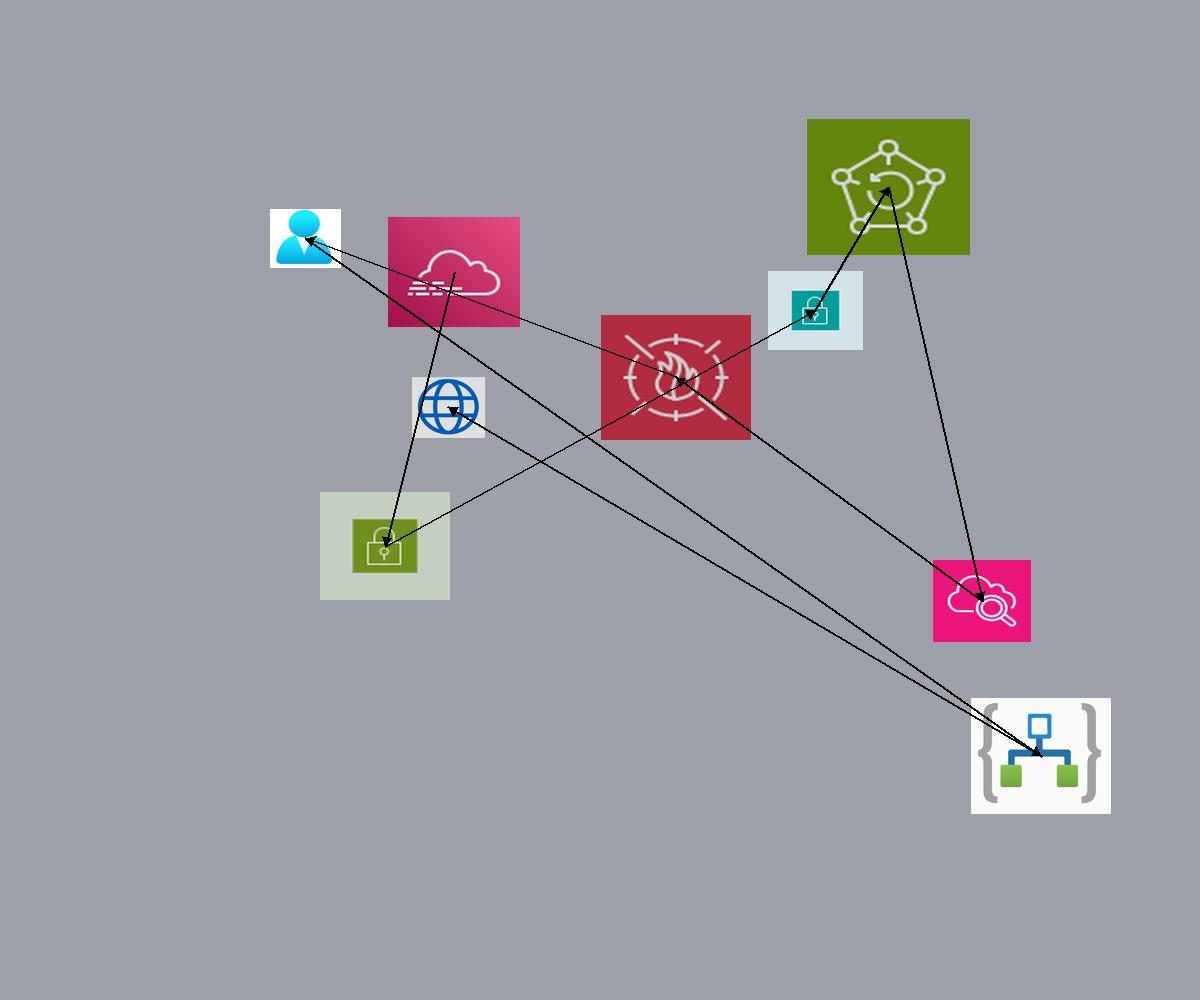AWS-Backup: (807, 119, 970, 255)
AWS-CloudTrail: (388, 217, 520, 327)
AWS-CloudWatch: (933, 560, 1031, 642)
AWS-Private-subnet: (768, 271, 863, 350)
AWS-Public-subnet: (320, 492, 450, 600)
AWS-WAF: (601, 315, 751, 440)
Azure_http: (412, 377, 485, 438)
Azure_integration-204-Logic-Apps: (971, 698, 1111, 814)
Azure_users: (270, 209, 341, 268)
